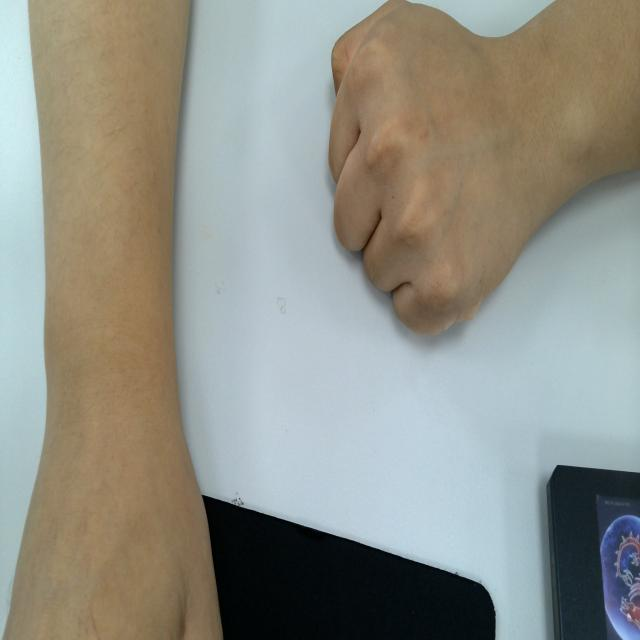Rock: (332, 14, 518, 372)
